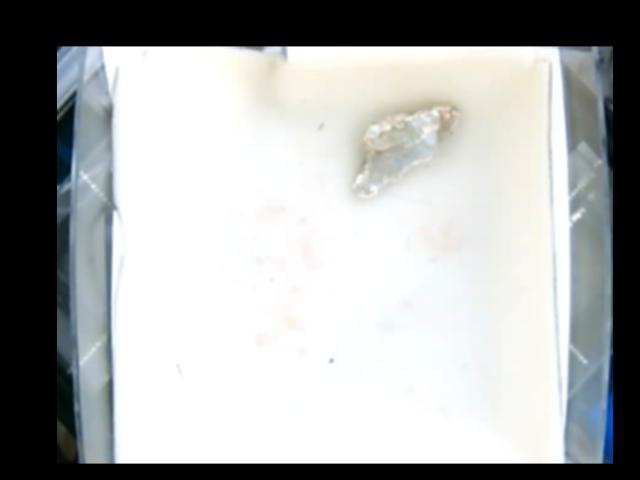Brisk: (350, 104, 463, 196)
